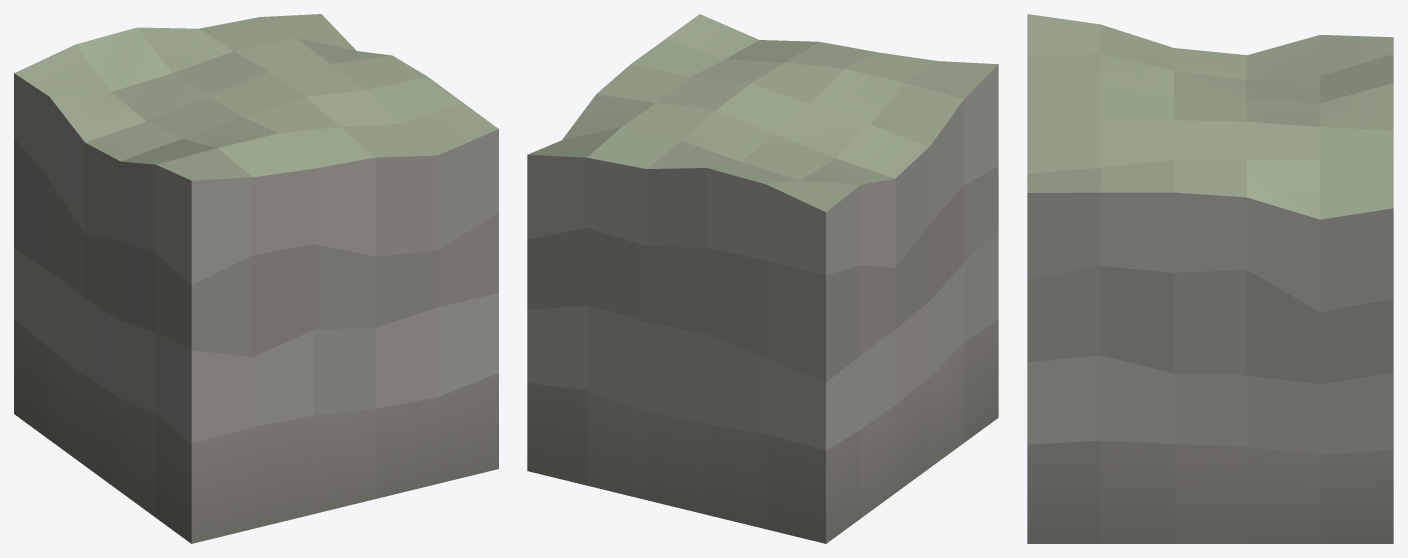
Rendered from roca_relleno_2.glb.
The picture shows the model from 3 angles, left to right: view 1: azimuth 30°, elevation 25°; view 2: azimuth 150°, elevation 25°; view 3: azimuth 270°, elevation 25°; orthographic projection. The views are drawn at different scales.
Visible parts, largest first — view 1: propforge-cuartos-roca_relleno; view 2: propforge-cuartos-roca_relleno; view 3: propforge-cuartos-roca_relleno.
Boxes of the visible parts, box(x1,y1,x2,y2) form: propforge-cuartos-roca_relleno: box(14, 14, 498, 543); propforge-cuartos-roca_relleno: box(527, 14, 998, 543); propforge-cuartos-roca_relleno: box(1027, 14, 1393, 543).
Bounding box in the file's own units: 1 × 1.13 × 1.
